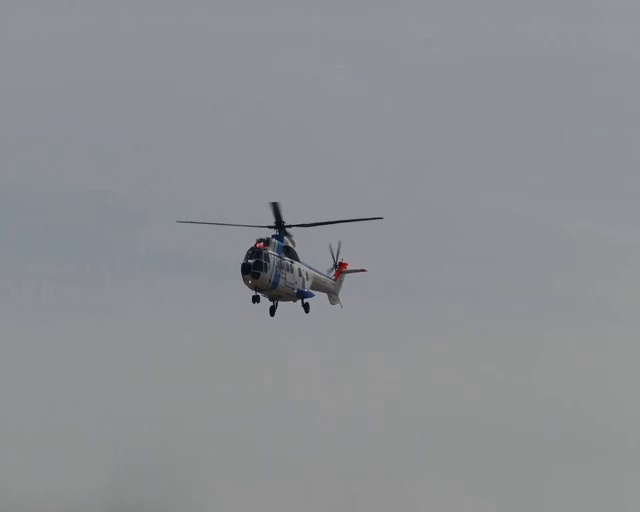HELICOPTER: (176, 200, 386, 318)
